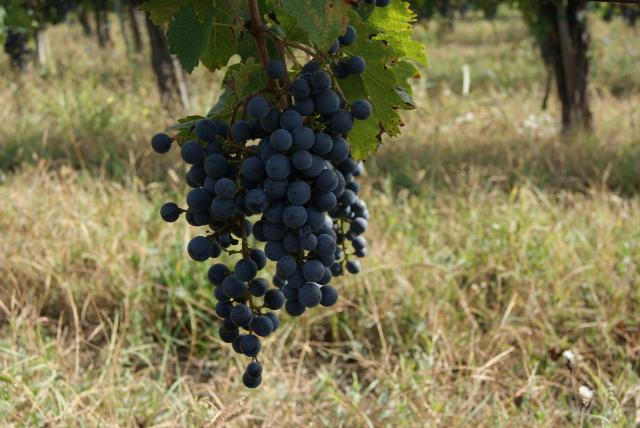grapes: (242, 79, 368, 310), (181, 118, 286, 389)
